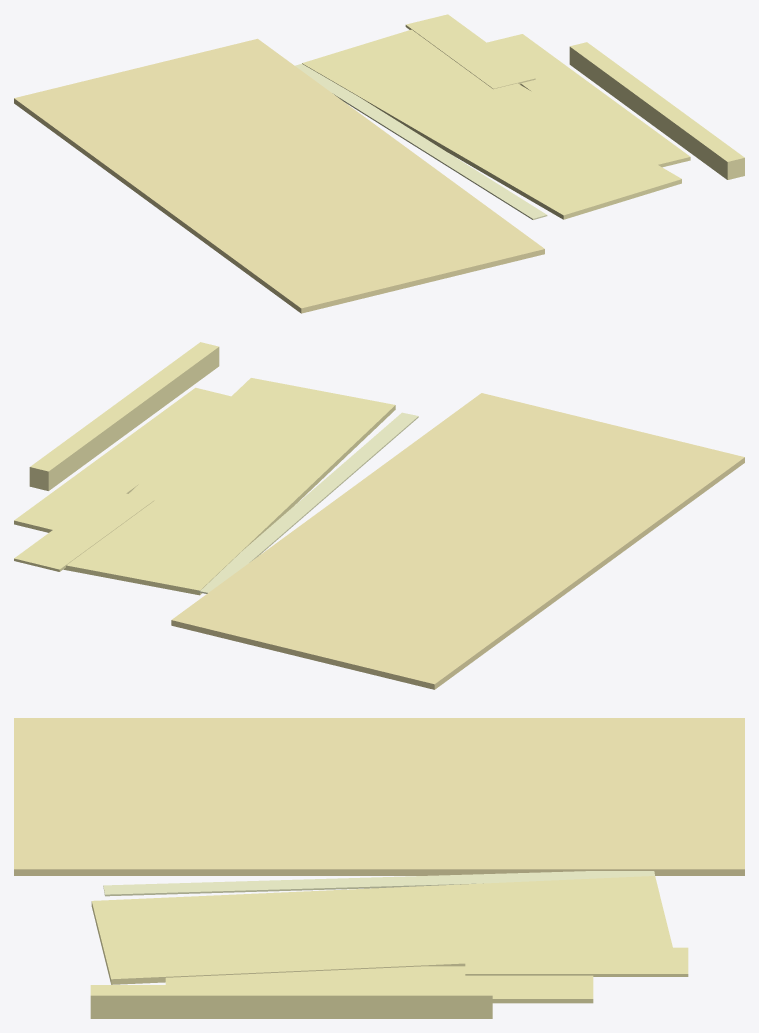
The model's file is road_curbside_dropoff_apron.glb.
The picture shows the model from 3 angles, top to bottom: view 1: azimuth 30°, elevation 25°; view 2: azimuth 150°, elevation 25°; view 3: azimuth 270°, elevation 25°; orthographic projection. The views are drawn at different scales.
Parts seen in each view (by area): view 1: travel_lane, dropoff_apron, curb_pad, corner_curb, ped_flush_zone, apron_joint; view 2: travel_lane, dropoff_apron, curb_pad, corner_curb, ped_flush_zone, apron_joint; view 3: travel_lane, dropoff_apron, corner_curb, curb_pad, ped_flush_zone, apron_joint.
Boxes of the visible parts, <box> form: travel_lane: <box>14,38,544,313</box>; dropoff_apron: <box>302,29,681,219</box>; curb_pad: <box>487,34,690,167</box>; corner_curb: <box>569,42,744,179</box>; ped_flush_zone: <box>405,14,535,89</box>; apron_joint: <box>295,63,547,219</box>; travel_lane: <box>171,393,744,689</box>; dropoff_apron: <box>63,378,395,595</box>; curb_pad: <box>14,387,230,532</box>; corner_curb: <box>29,342,219,490</box>; ped_flush_zone: <box>14,489,154,571</box>; apron_joint: <box>197,412,418,593</box>; travel_lane: <box>14,718,744,875</box>; dropoff_apron: <box>91,876,672,984</box>; corner_curb: <box>90,985,492,1018</box>; curb_pad: <box>165,966,593,1003</box>; ped_flush_zone: <box>465,947,688,976</box>; apron_joint: <box>103,871,654,896</box>.
Bounding box in the file's own units: 3.81 × 0.14 × 4.
